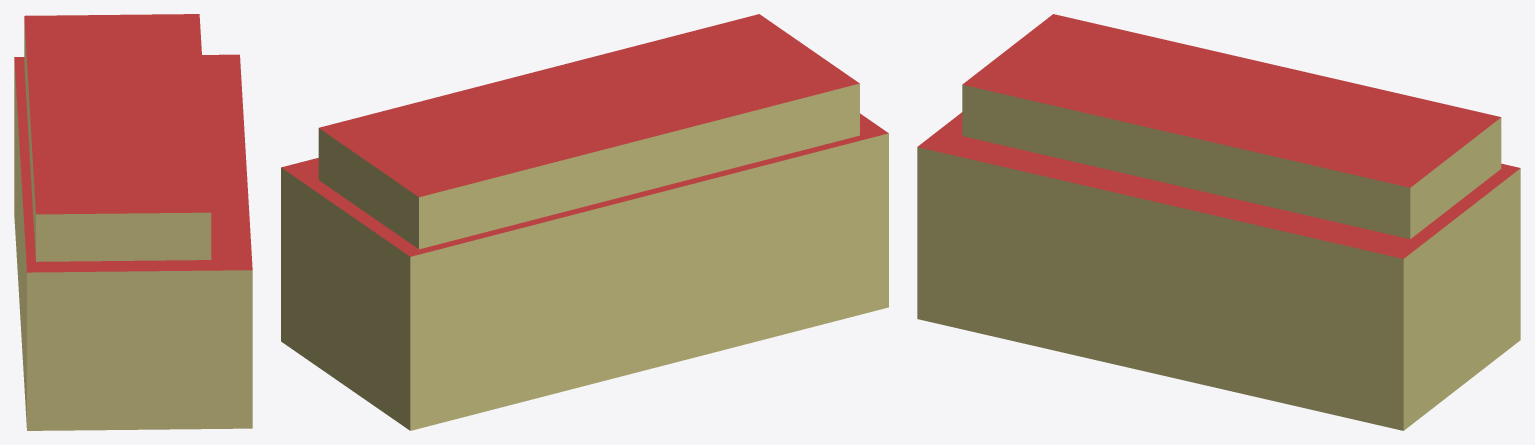
3 views of the same model, side by side, from view 1: azimuth 30°, elevation 25°; view 2: azimuth 150°, elevation 25°; view 3: azimuth 270°, elevation 25° (orthographic). The views are drawn at different scales.
Parts seen in each view (by area): view 1: group_6, group_4, group_3, group_5; view 2: group_6, group_4, group_5, group_3; view 3: group_6, group_4, group_5, group_3.
Boxes of the visible parts, bbox=[...] form: group_6: bbox=[14, 60, 252, 430]; group_4: bbox=[24, 14, 211, 214]; group_3: bbox=[14, 54, 252, 272]; group_5: bbox=[24, 19, 211, 261]; group_6: bbox=[281, 133, 888, 430]; group_4: bbox=[319, 14, 859, 197]; group_5: bbox=[318, 83, 859, 249]; group_3: bbox=[281, 113, 888, 256]; group_6: bbox=[917, 147, 1520, 430]; group_4: bbox=[962, 14, 1500, 187]; group_5: bbox=[962, 84, 1501, 239]; group_3: bbox=[917, 112, 1520, 258].
Bounding box in the file's own units: 29.77 × 37.42 × 15.29.
